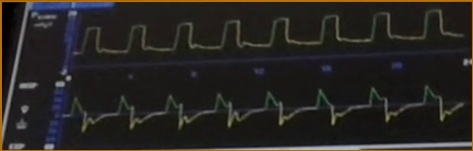Premature_cycling Flow: (66, 83, 463, 140)
